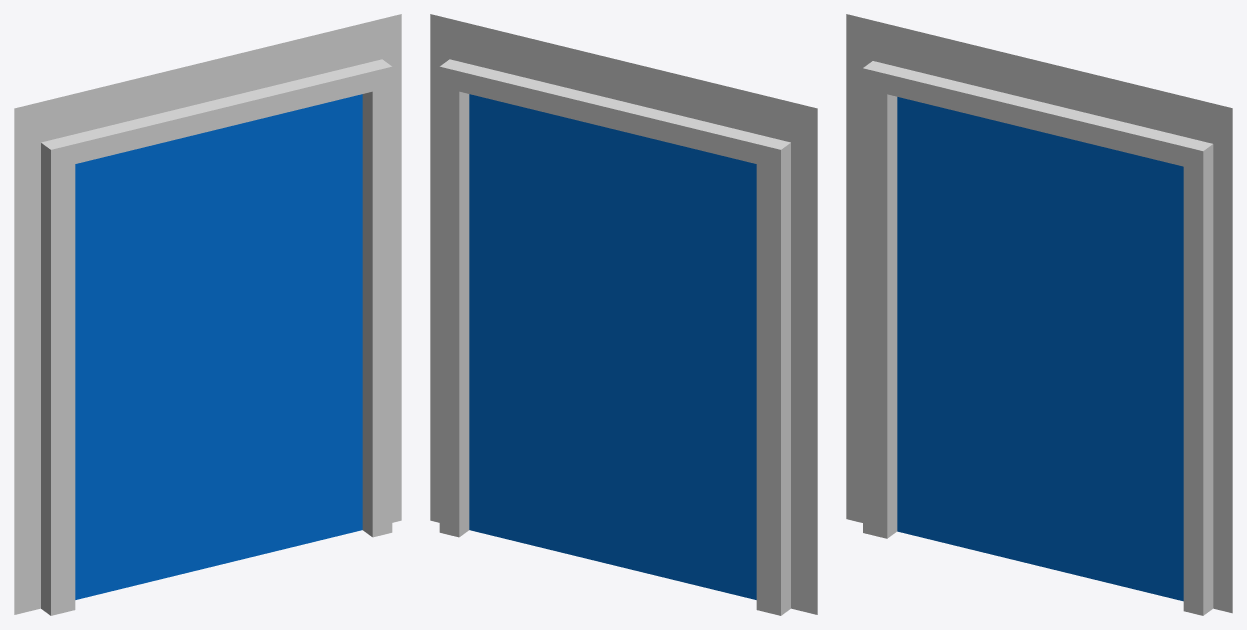
File: Marco.fbx
The picture shows the model from 3 angles, left to right: view 1: azimuth 30°, elevation 25°; view 2: azimuth 150°, elevation 25°; view 3: azimuth 330°, elevation 25°; orthographic projection.
Parts seen in each view (by area): view 1: Plane, Cube, wall_01; view 2: Plane, Cube, wall_01; view 3: Plane, Cube, wall_01.
Part boxes in pixels (x1,y1,x2,y2): Plane: (75, 94, 362, 599); Cube: (41, 59, 392, 615); wall_01: (14, 14, 401, 614); Plane: (469, 94, 756, 599); Cube: (439, 59, 790, 615); wall_01: (430, 14, 817, 614); Plane: (897, 97, 1183, 601); Cube: (863, 61, 1213, 615); wall_01: (846, 14, 1232, 613).
Size of the model in its own units: 200 by 250 by 18.
